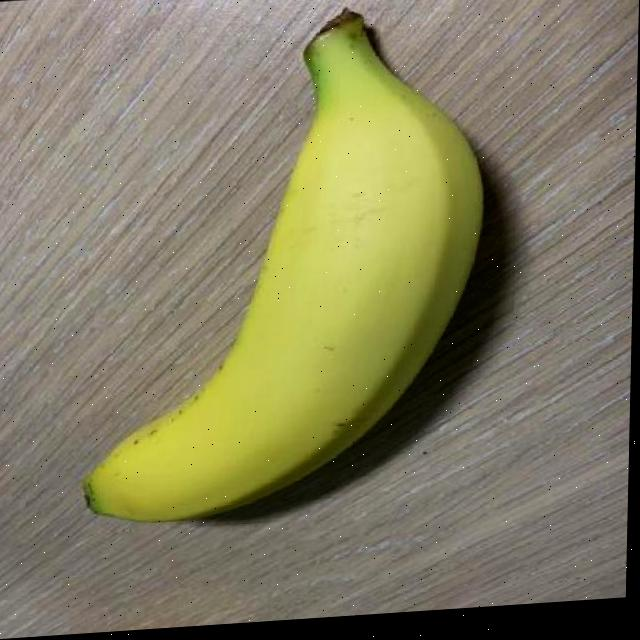banana: (65, 0, 507, 537)
